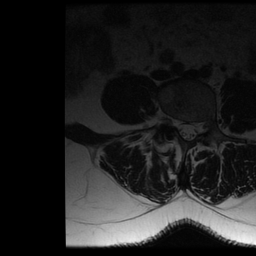CCS_normal: (184, 110, 191, 148)
LFS_normal: (199, 110, 207, 139)
LLS_normal: (191, 110, 199, 144)
RFS_normal: (168, 107, 176, 134)
RLS_normal: (176, 110, 184, 142)
